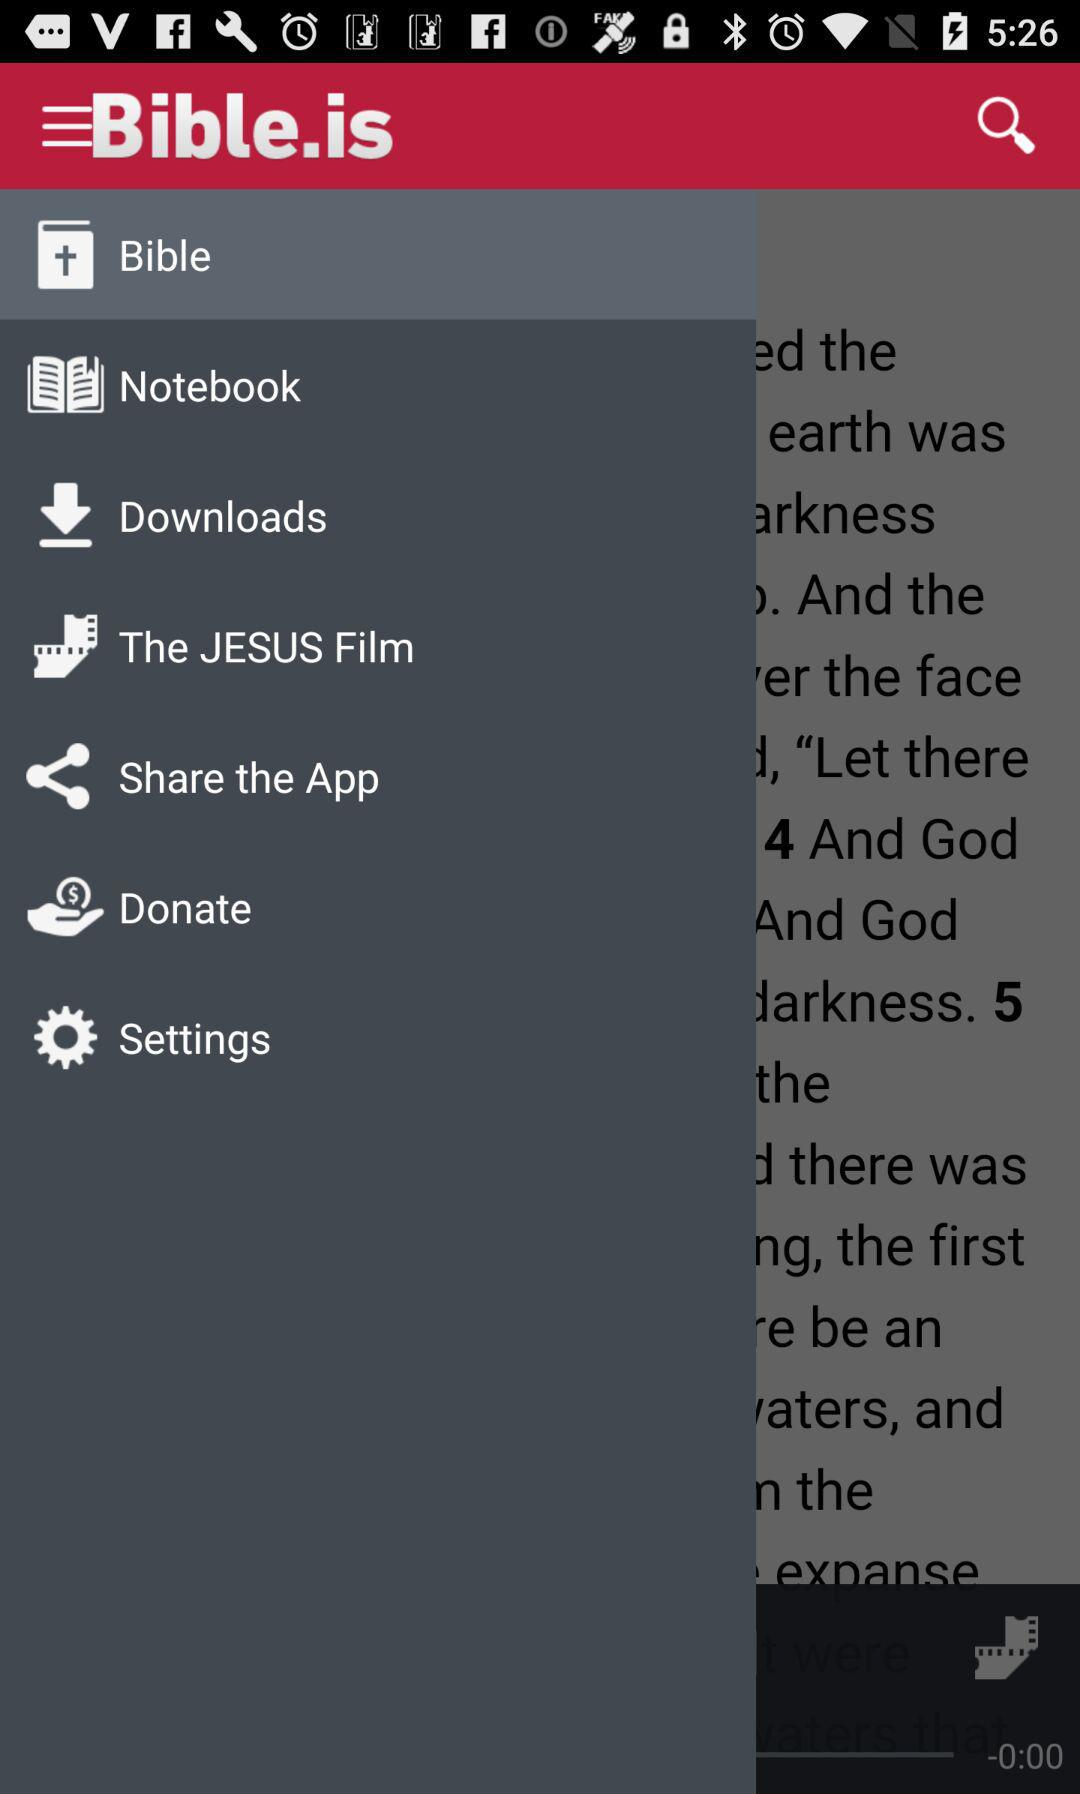Drawer: (1, 190, 758, 1794)
Icon: (26, 355, 108, 416), (27, 876, 106, 938), (26, 743, 91, 811), (35, 1005, 99, 1071), (37, 220, 96, 291), (976, 96, 1036, 158), (38, 482, 94, 548), (42, 105, 94, 149)
Image: (35, 614, 100, 679)
Text: (94, 94, 395, 161), (120, 760, 380, 803), (118, 630, 415, 666), (120, 498, 328, 536), (120, 1023, 273, 1065), (120, 370, 304, 405), (120, 892, 252, 926), (120, 238, 211, 274)
Toolbar: (1, 64, 1080, 190)
UpperTaskBar: (1, 1, 1080, 64)
